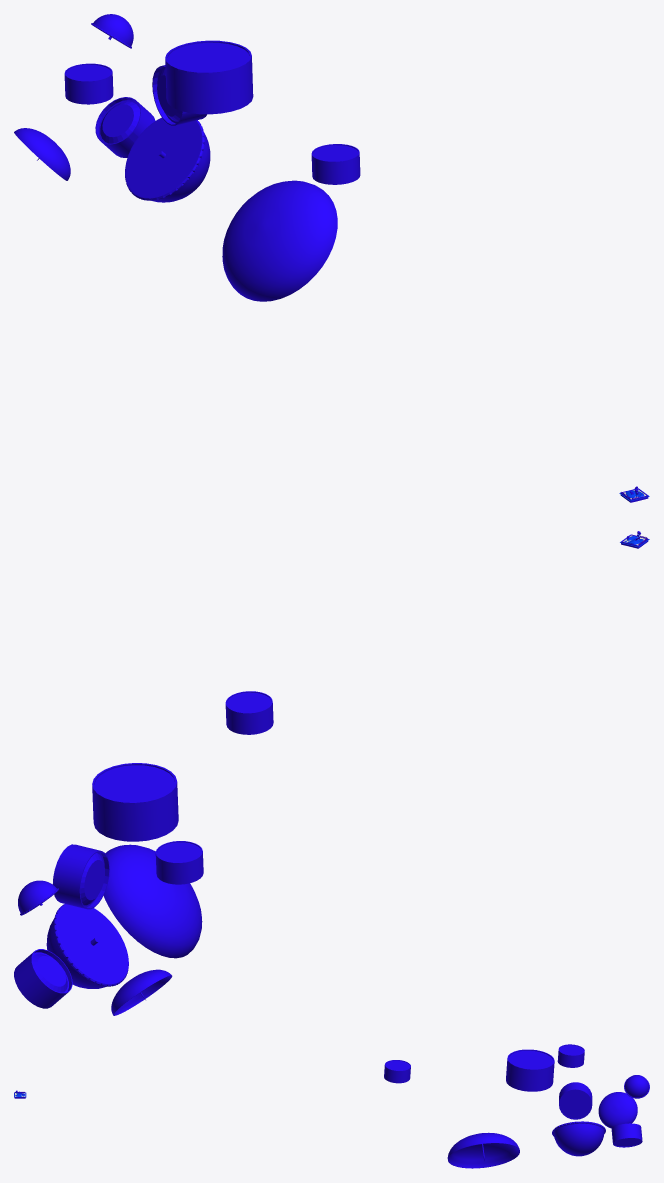
Rendered from Park_blue.fbx.
The picture shows the model from 3 angles, top to bottom: view 1: azimuth 30°, elevation 25°; view 2: azimuth 150°, elevation 25°; view 3: azimuth 270°, elevation 25°; orthographic projection. The views are drawn at different scales.
Parts seen in each view (by area): view 1: inc3d_comm_tower:satalite, inc3d_comm_tower:Cylinder03, inc3d_comm_tower:Sphere01, inc3d_comm_tower:Cylinder02, inc3d_comm_tower:Cylinder05, inc3d_comm_tower:Cylinder04, inc3d_comm_tower:satalite01, inc3d_comm_tower:Cylinder01, inc3d_comm_tower:Sphere02; view 2: inc3d_comm_tower:satalite, inc3d_comm_tower:Cylinder03, inc3d_comm_tower:Sphere01, inc3d_comm_tower:Cylinder01, inc3d_comm_tower:Cylinder02, inc3d_comm_tower:Cylinder05, inc3d_comm_tower:Cylinder04, inc3d_comm_tower:satalite01, inc3d_comm_tower:Sphere02; view 3: inc3d_comm_tower:satalite, inc3d_comm_tower:Cylinder03, inc3d_comm_tower:Sphere01, inc3d_comm_tower:satalite01, inc3d_comm_tower:Cylinder01, inc3d_comm_tower:Cylinder02, inc3d_comm_tower:Cylinder05, inc3d_comm_tower:Cylinder04, inc3d_comm_tower:Sphere02.
Boxes of the visible parts, x1,y1,x2,y2 form: inc3d_comm_tower:satalite: [222, 180, 337, 301]; inc3d_comm_tower:Cylinder03: [165, 40, 253, 114]; inc3d_comm_tower:Sphere01: [125, 117, 210, 202]; inc3d_comm_tower:Cylinder02: [95, 97, 155, 157]; inc3d_comm_tower:Cylinder05: [64, 63, 113, 104]; inc3d_comm_tower:Cylinder04: [311, 144, 360, 184]; inc3d_comm_tower:satalite01: [14, 128, 70, 180]; inc3d_comm_tower:Cylinder01: [152, 65, 206, 125]; inc3d_comm_tower:Sphere02: [91, 14, 133, 48]; inc3d_comm_tower:satalite: [103, 844, 202, 958]; inc3d_comm_tower:Cylinder03: [92, 763, 178, 841]; inc3d_comm_tower:Sphere01: [46, 904, 128, 988]; inc3d_comm_tower:Cylinder01: [52, 844, 109, 909]; inc3d_comm_tower:Cylinder02: [14, 949, 72, 1008]; inc3d_comm_tower:Cylinder05: [155, 841, 203, 884]; inc3d_comm_tower:Cylinder04: [225, 691, 273, 734]; inc3d_comm_tower:satalite01: [111, 969, 172, 1015]; inc3d_comm_tower:Sphere02: [18, 880, 58, 915]; inc3d_comm_tower:satalite: [447, 1132, 519, 1168]; inc3d_comm_tower:Cylinder03: [506, 1049, 554, 1091]; inc3d_comm_tower:Sphere01: [552, 1121, 605, 1156]; inc3d_comm_tower:satalite01: [598, 1092, 637, 1128]; inc3d_comm_tower:Cylinder01: [559, 1082, 592, 1119]; inc3d_comm_tower:Cylinder02: [611, 1123, 642, 1147]; inc3d_comm_tower:Cylinder05: [557, 1044, 584, 1067]; inc3d_comm_tower:Cylinder04: [384, 1060, 410, 1083]; inc3d_comm_tower:Sphere02: [624, 1075, 649, 1098].
Size of the model in its own units: 9219 by 10010 by 51159.
